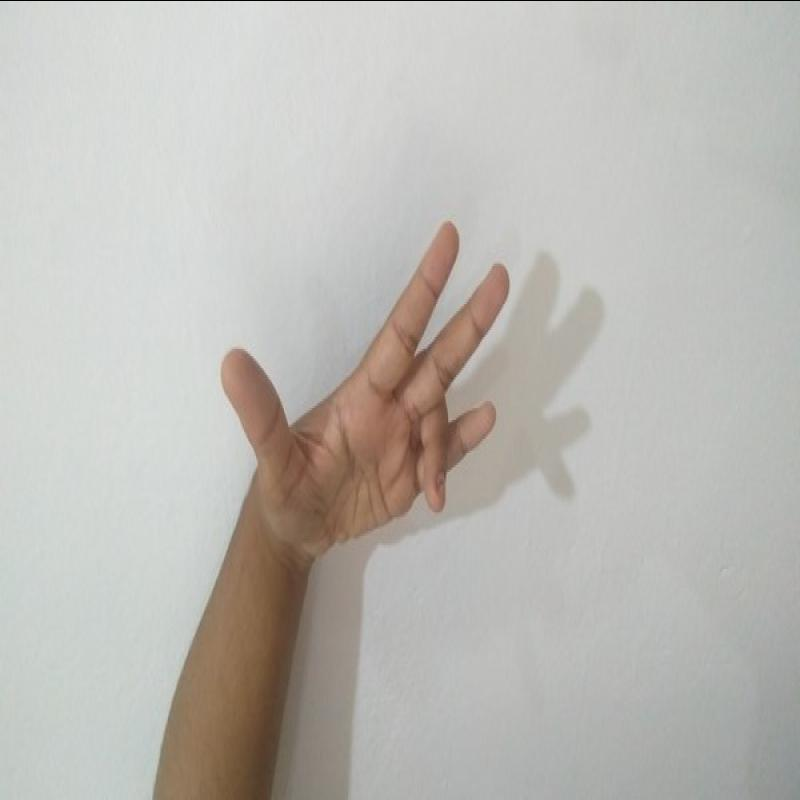Pathaaka: (205, 205, 522, 557)
